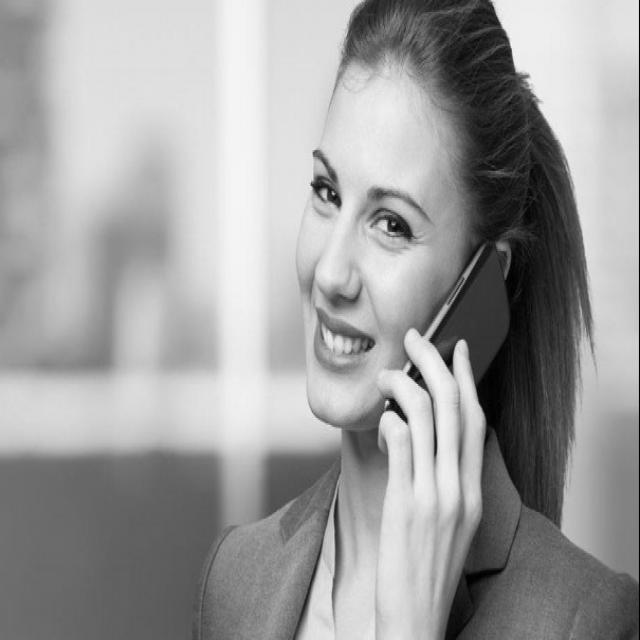phone: (369, 152, 523, 457)
